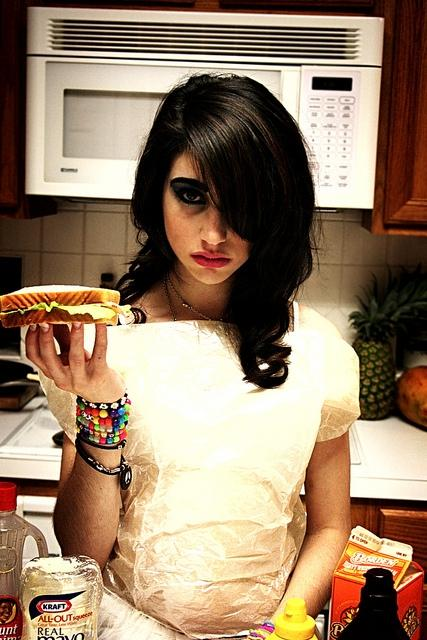lettuce: (0, 301, 131, 320)
pineapple: (348, 262, 427, 421)
